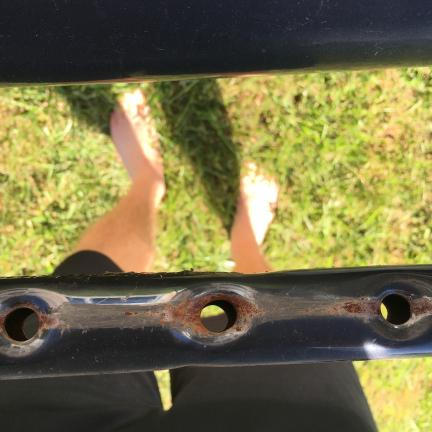karat: (167, 281, 261, 352)
